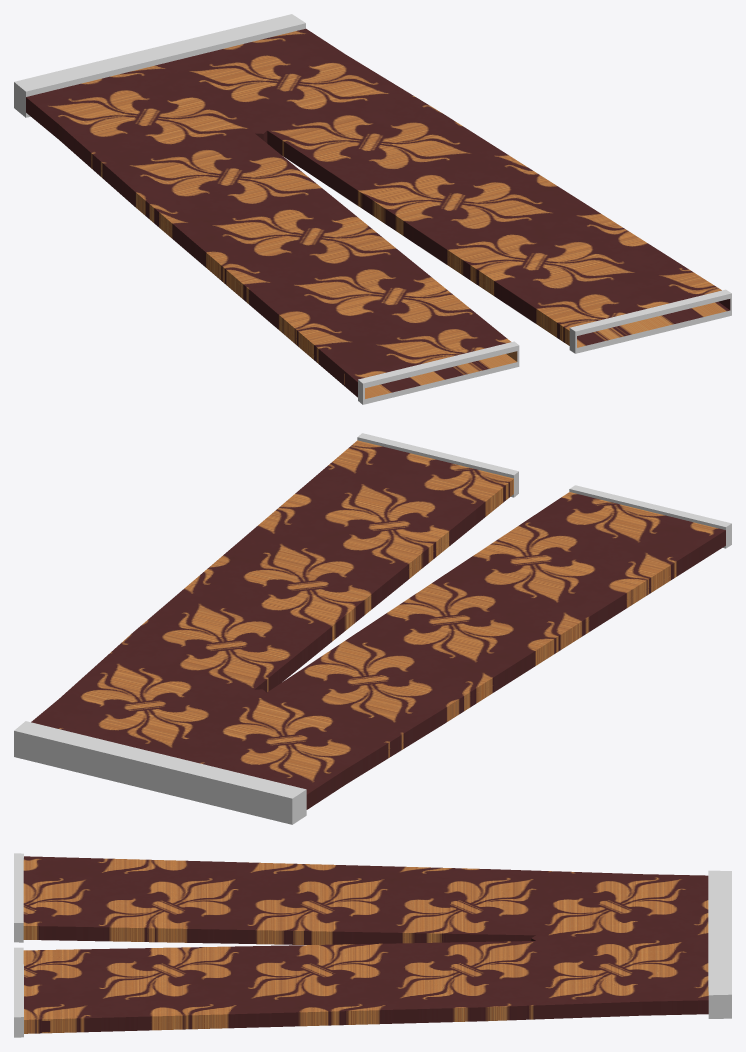
Rendered from pants8.fbx.
3 renders of one model, top to bottom at view 1: azimuth 30°, elevation 25°; view 2: azimuth 150°, elevation 25°; view 3: azimuth 270°, elevation 25°, orthographic. The views are drawn at different scales.
Visible parts, largest first — view 1: pants8; view 2: pants8; view 3: pants8.
Boxes of the visible parts, x1,y1,x2,y2 form: pants8: (14, 14, 731, 404); pants8: (14, 433, 731, 824); pants8: (14, 853, 731, 1037).
Size of the model in its own units: 0.504 by 0.0342 by 0.9314.
